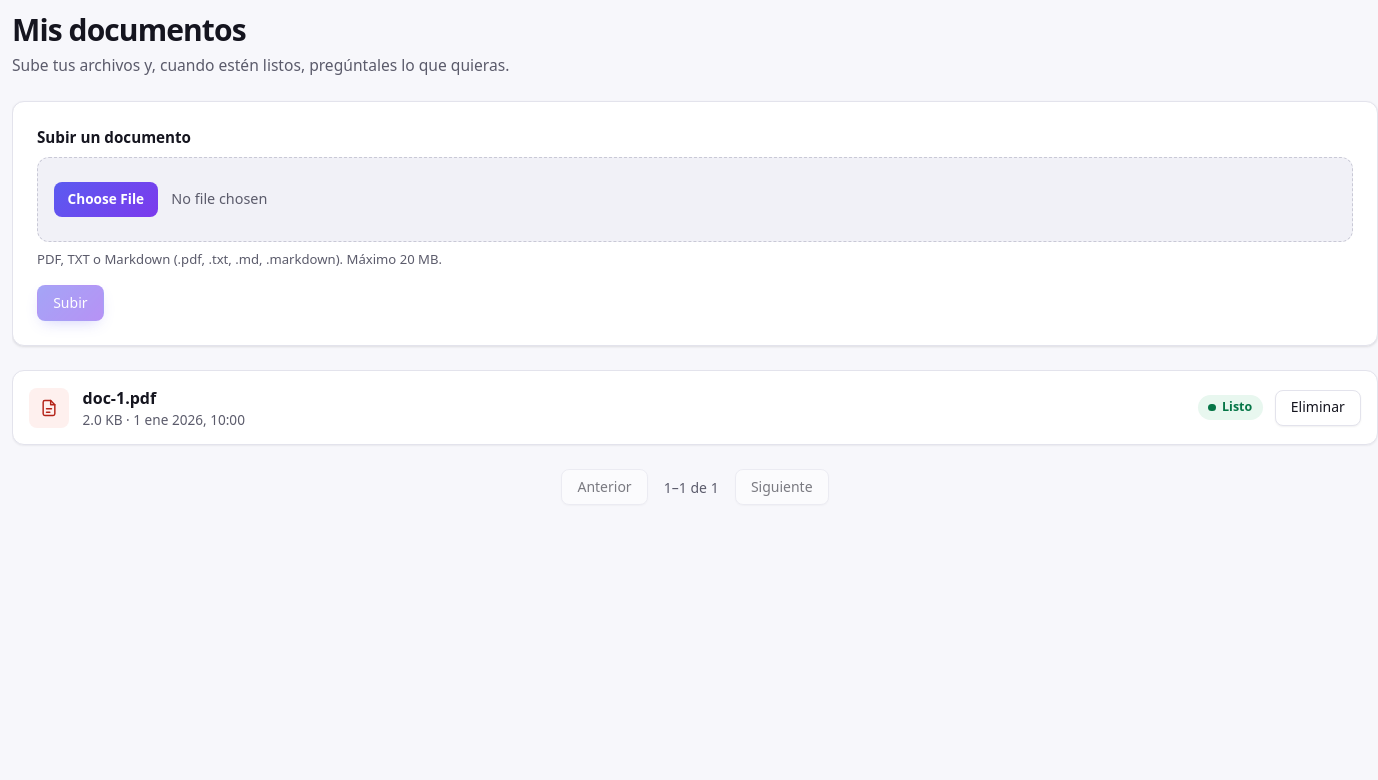
eliminar documentos › un 404 (ya borrado en otro sitio) también lo quita de la lista
Check: the text "doc-1.pdf" is shown, box [83, 387, 156, 409]
Click the button with aria-label "Eliminar doc-1.pdf" at (1318, 408), box [1275, 390, 1361, 426]
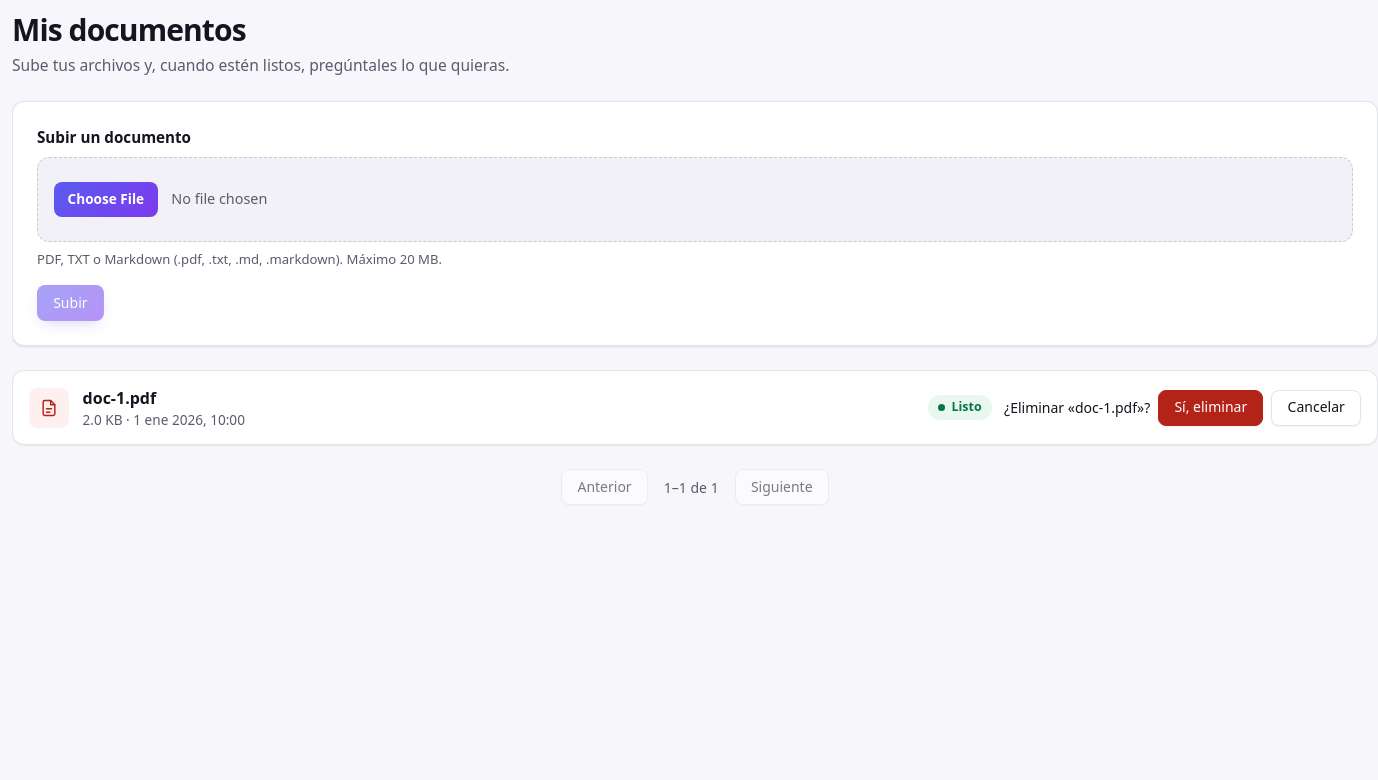
Click the button "Sí, eliminar" at (1211, 408), box [1158, 390, 1263, 426]
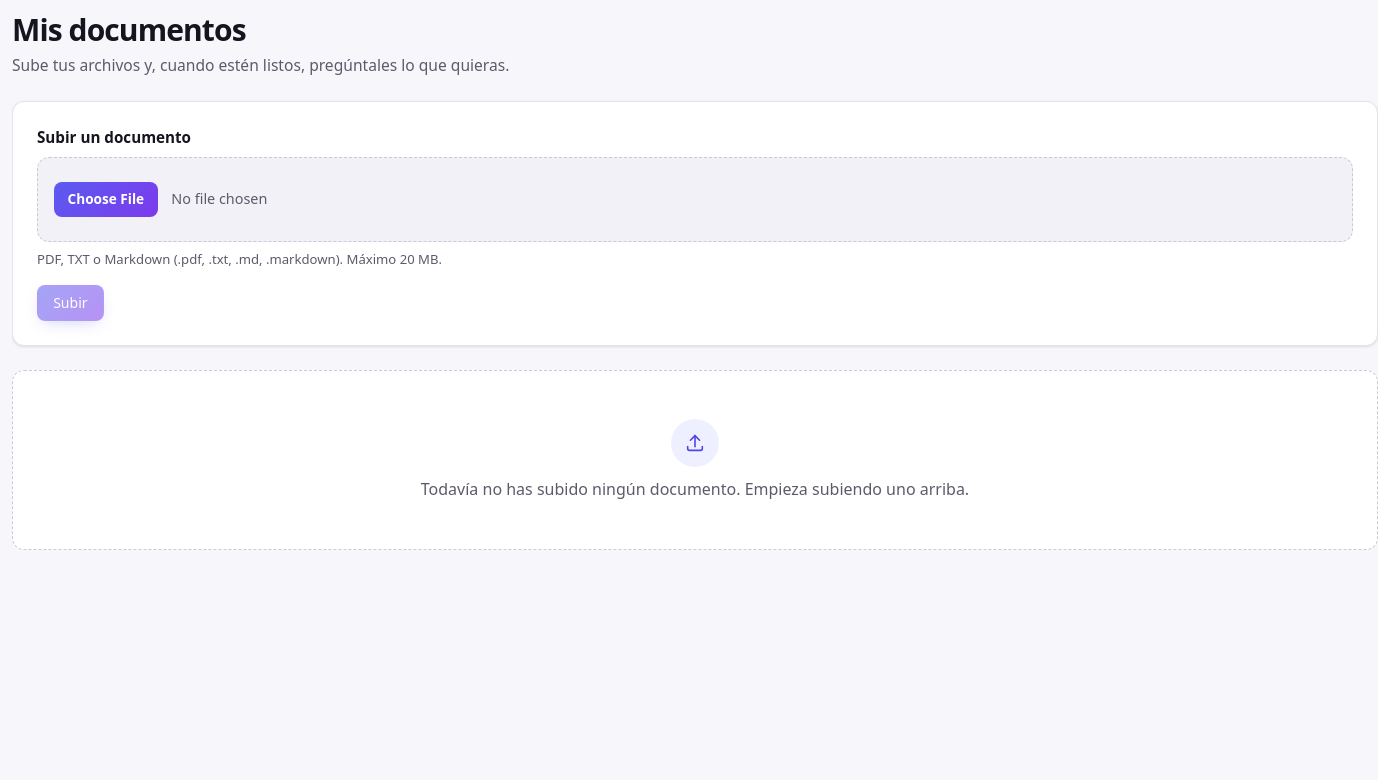
Check: the text "Todavía no has subido" is shown, box [421, 478, 969, 500]
